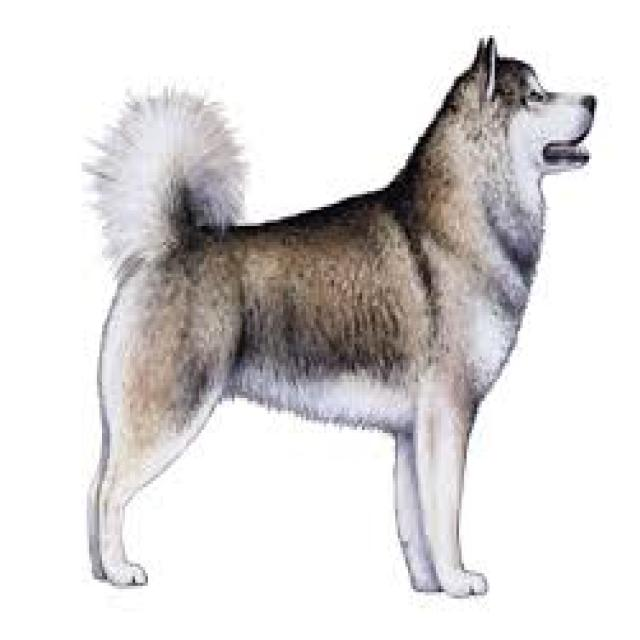ALASKAN_MALAMUTE: (56, 22, 610, 614)
